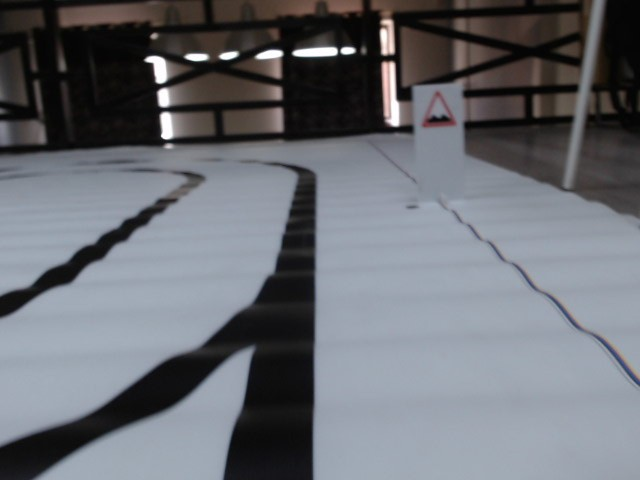Nerov: (420, 91, 458, 131)
